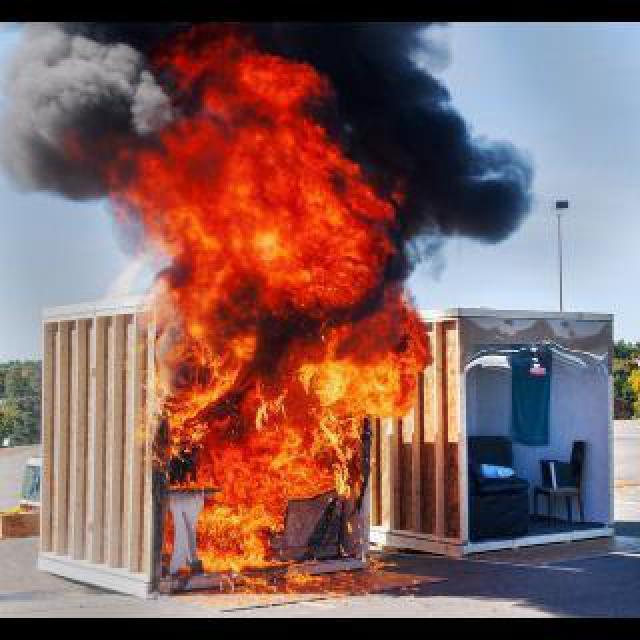Fire: (121, 22, 392, 314), (156, 318, 424, 570)
Smoke: (406, 20, 532, 242), (2, 18, 122, 198)
